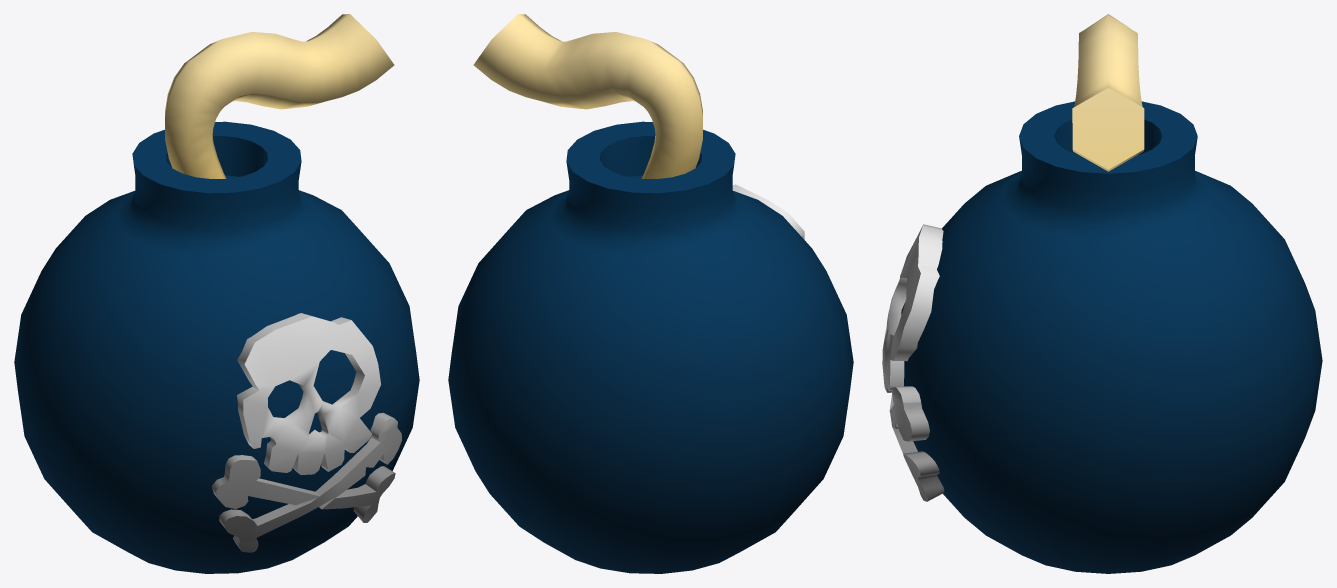
File: scene_3rQPOLrrq8.glb
3 views of the same model, side by side, from view 1: azimuth 30°, elevation 25°; view 2: azimuth 150°, elevation 25°; view 3: azimuth 270°, elevation 25° (orthographic). The views are drawn at different scales.
Visible parts, largest first — view 1: Collectable_Bomb_02; view 2: Collectable_Bomb_02; view 3: Collectable_Bomb_02.
Part boxes in pixels (x1=…): Collectable_Bomb_02: x1=14, y1=14, x2=419, y2=573; Collectable_Bomb_02: x1=448, y1=14, x2=853, y2=573; Collectable_Bomb_02: x1=882, y1=14, x2=1322, y2=573.
Bounding box in the file's own units: 0.6737 × 0.9403 × 0.6923.
1 material, 1 textured.
